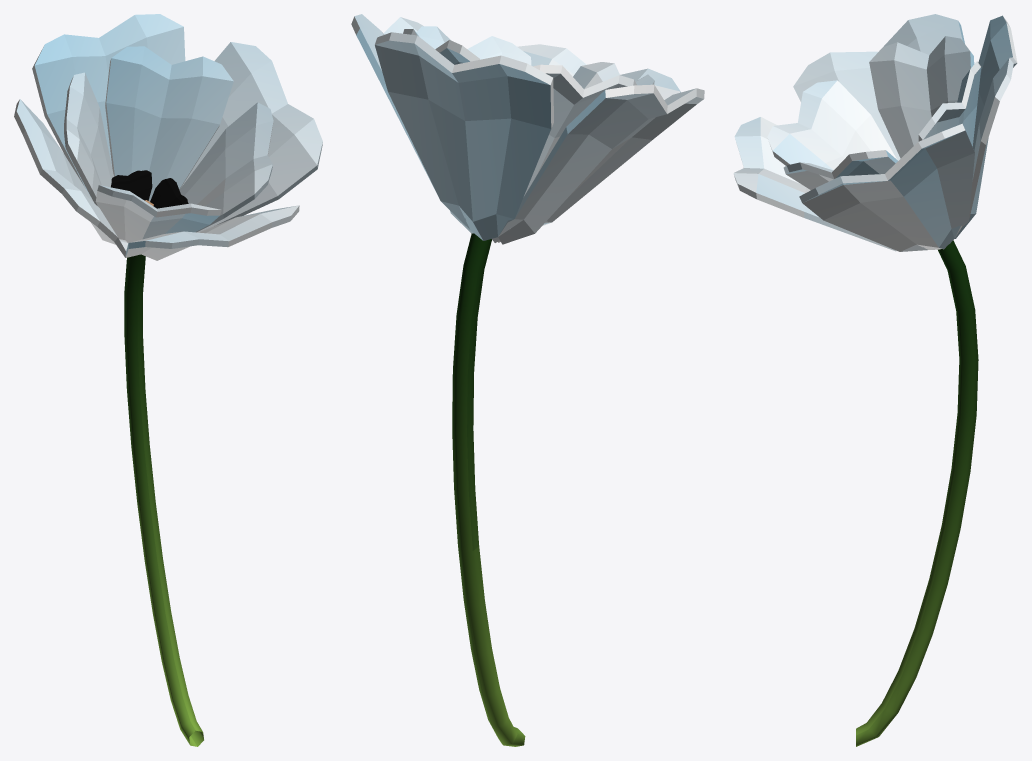
The model's file is Flower03B.fbx.
3 renders of one model, left to right at view 1: azimuth 30°, elevation 25°; view 2: azimuth 150°, elevation 25°; view 3: azimuth 270°, elevation 25°, orthographic. The views are drawn at different scales.
Parts seen in each view (by area): view 1: Flower03B_LOD0; view 2: Flower03B_LOD0; view 3: Flower03B_LOD0.
Part boxes in pixels (x1,y1,x2,y2): Flower03B_LOD0: (14, 14, 322, 746); Flower03B_LOD0: (351, 14, 704, 746); Flower03B_LOD0: (733, 14, 1017, 746).
Size of what is drawn, in the model's own units: 44.87 by 112 by 41.58.
